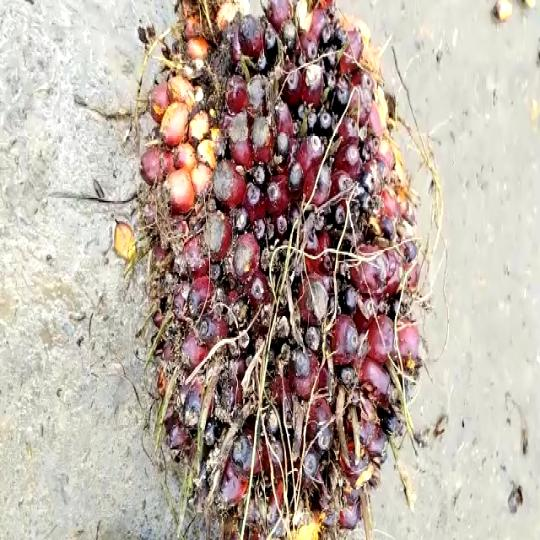kurang masak: (128, 0, 441, 540)
